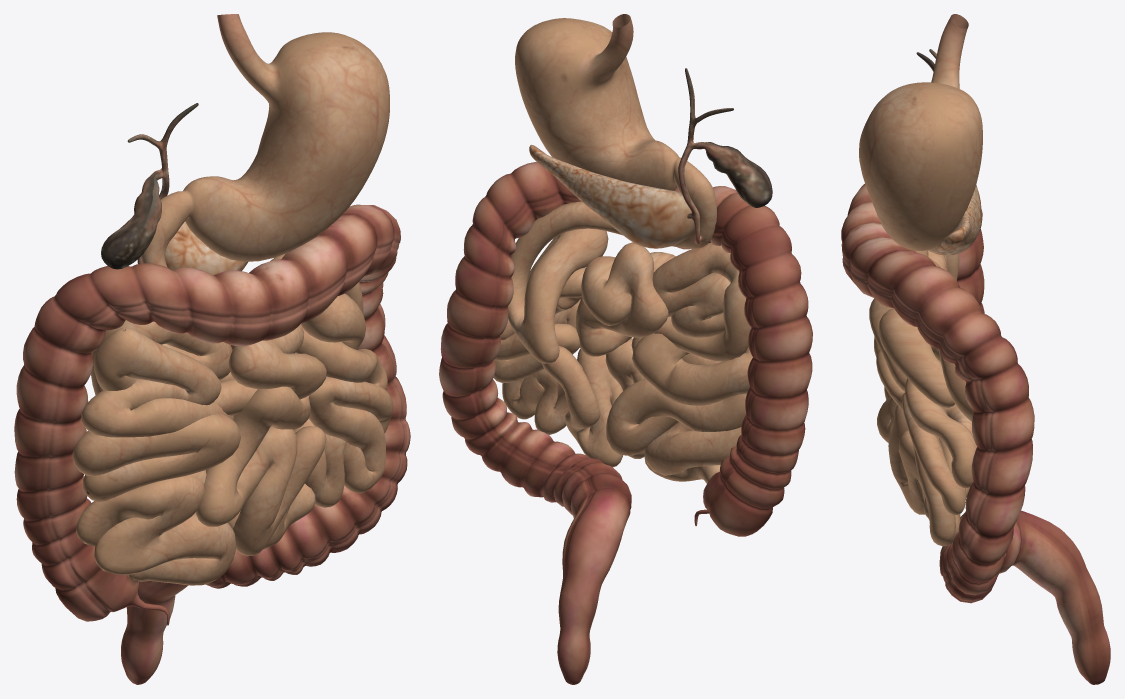
3 views of the same model, side by side, from view 1: azimuth 30°, elevation 25°; view 2: azimuth 150°, elevation 25°; view 3: azimuth 270°, elevation 25° (orthographic). The views are drawn at different scales.
Visible parts, largest first — view 1: DigestiveSystem.002, DigestiveSystem.007, DigestiveSystem.010; view 2: DigestiveSystem.002, DigestiveSystem.007, DigestiveSystem.010; view 3: DigestiveSystem.002, DigestiveSystem.007.
Boxes of the visible parts, left/top/right/bottom form: DigestiveSystem.002: left=14, top=191, right=410, bottom=684; DigestiveSystem.007: left=183, top=14, right=389, bottom=261; DigestiveSystem.010: left=101, top=103, right=198, bottom=269; DigestiveSystem.002: left=439, top=144, right=812, bottom=684; DigestiveSystem.007: left=515, top=14, right=678, bottom=190; DigestiveSystem.010: left=678, top=68, right=772, bottom=244; DigestiveSystem.002: left=841, top=184, right=1110, bottom=684; DigestiveSystem.007: left=859, top=14, right=982, bottom=250.
Size of the model in its own units: 22.34 by 37.83 by 13.7.
1 material, 1 textured.
